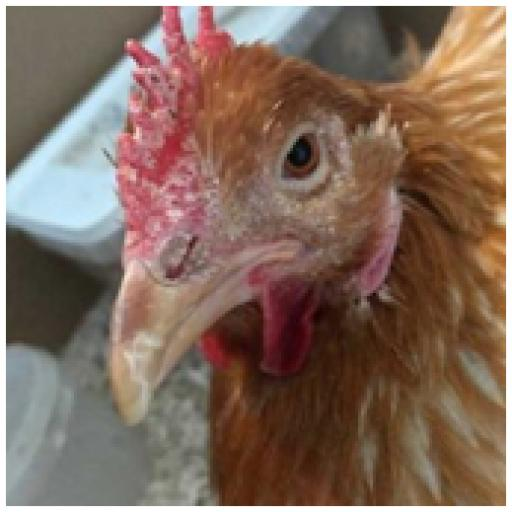disease: (119, 0, 227, 272)
